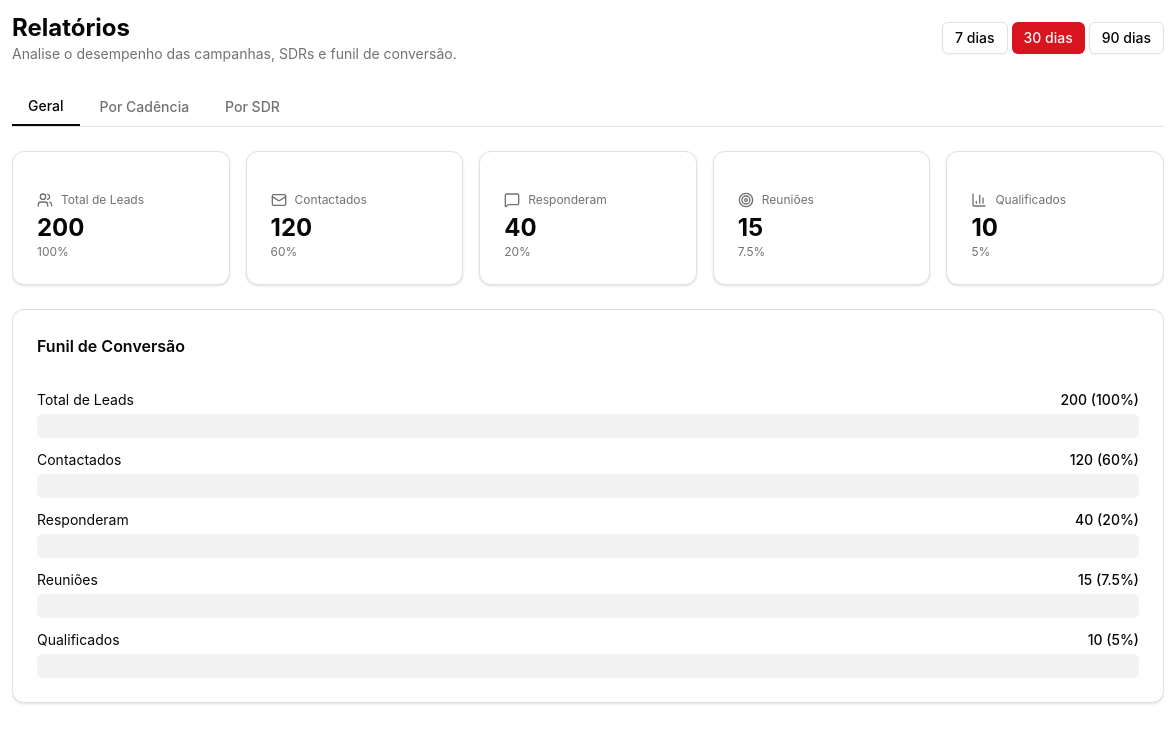
it: ReportsView › export CSV button › hides export button after switching back to Geral from cadence tab
The image size is (1176, 732).
Click the button "Por Cadência". click: (144, 107)
box: [84,88,205,126]
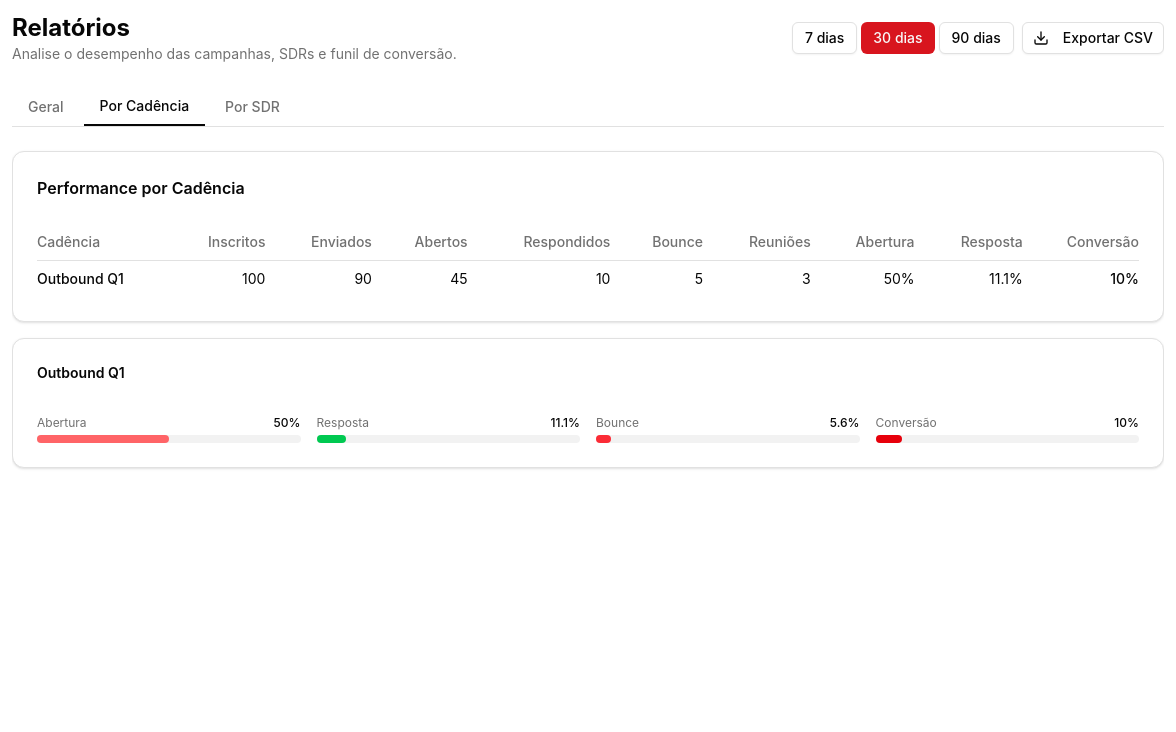
Click the button "Geral". click: (46, 107)
box: [12,88,80,126]
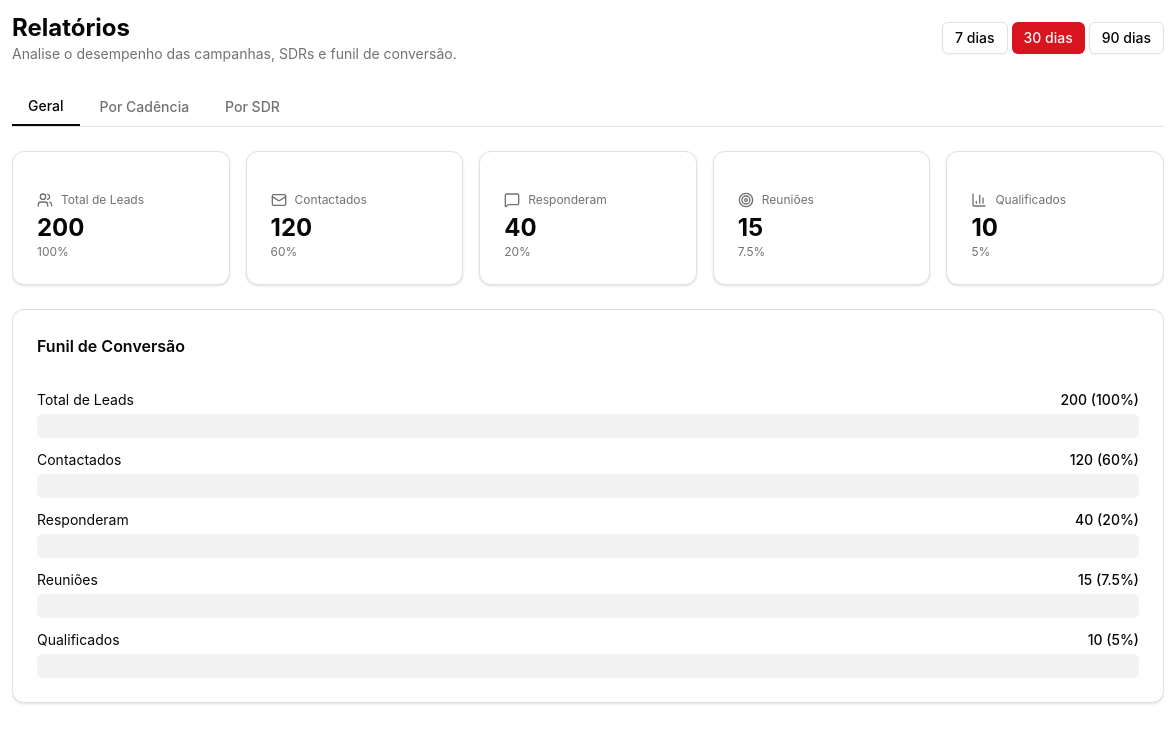
Expected: the button "Exportar CSV" is gone
